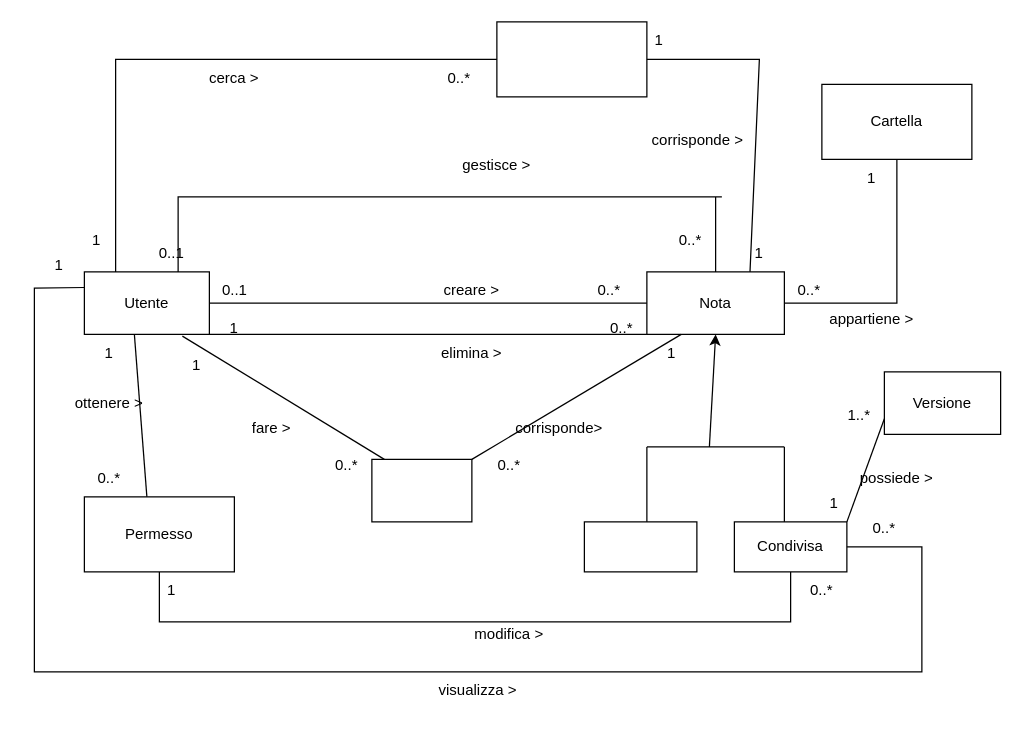
This 1023x731 diagram has some shape labels left out. The centre of each missing label's shape, as x and y in pixels:
Copia: point 421,490
Privata: point 640,546
Tag: point 571,59
